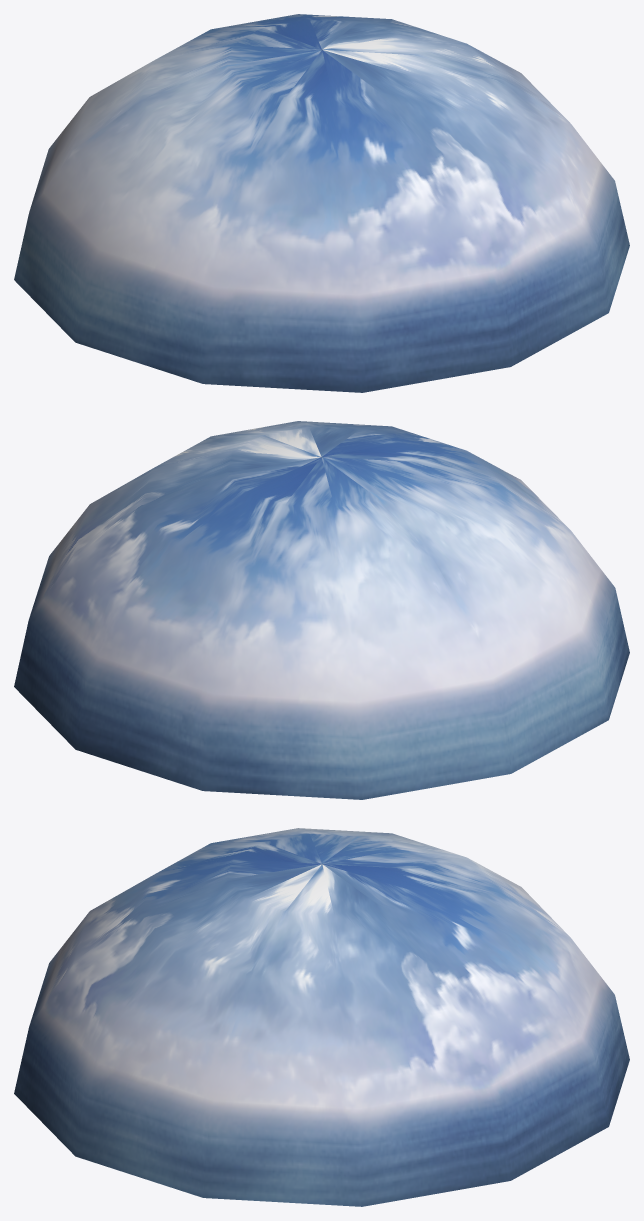
Rendered from env_arv7_mudhorn_cave_pre.glb.
3 views of the same model, one above another, from view 1: azimuth 30°, elevation 25°; view 2: azimuth 150°, elevation 25°; view 3: azimuth 270°, elevation 25° (orthographic).
Visible parts, largest first — view 1: skybox_01_mesh; view 2: skybox_01_mesh; view 3: skybox_01_mesh.
Part boxes in pixels (x1=…): skybox_01_mesh: x1=14, y1=14, x2=629, y2=392; skybox_01_mesh: x1=14, y1=421, x2=629, y2=799; skybox_01_mesh: x1=14, y1=828, x2=629, y2=1206.
Bounding box in the file's own units: 280 × 107 × 280.
Materials: 8 (8 with a texture image).
